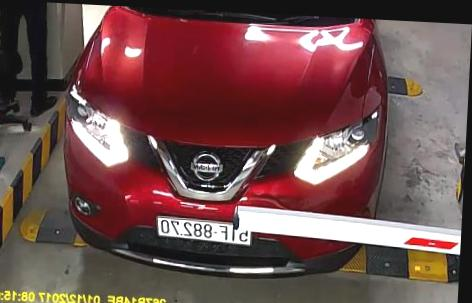License_Plate: (153, 214, 257, 246)
